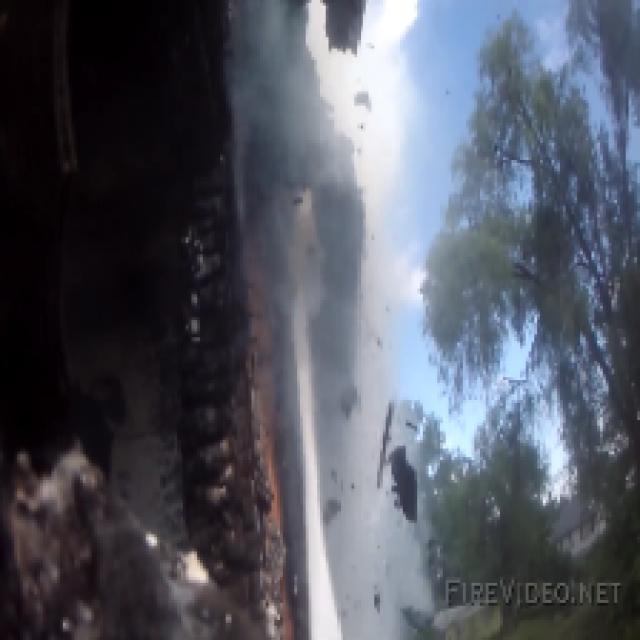Smoke: (217, 0, 429, 640)
